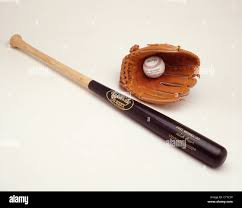baseball bat: (8, 33, 227, 169)
